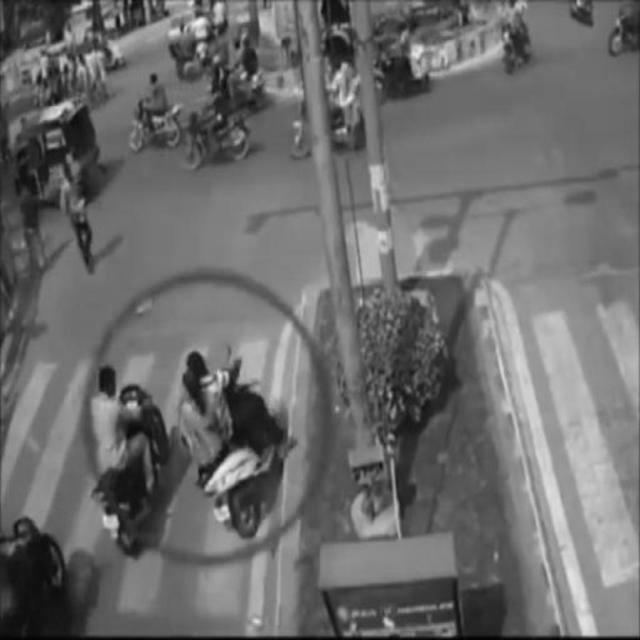person: (60, 158, 98, 271)
vehicle: (179, 340, 280, 540), (88, 371, 169, 556), (8, 99, 99, 197), (182, 88, 252, 166), (127, 74, 179, 152)
